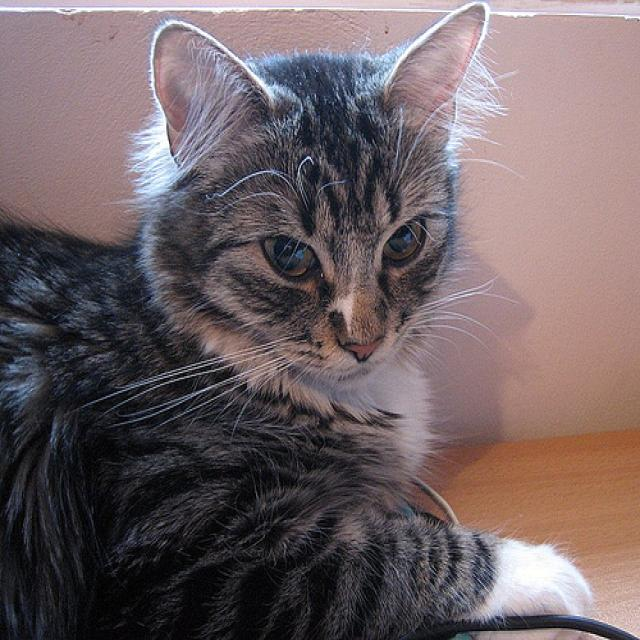left eye: (380, 214, 428, 266)
